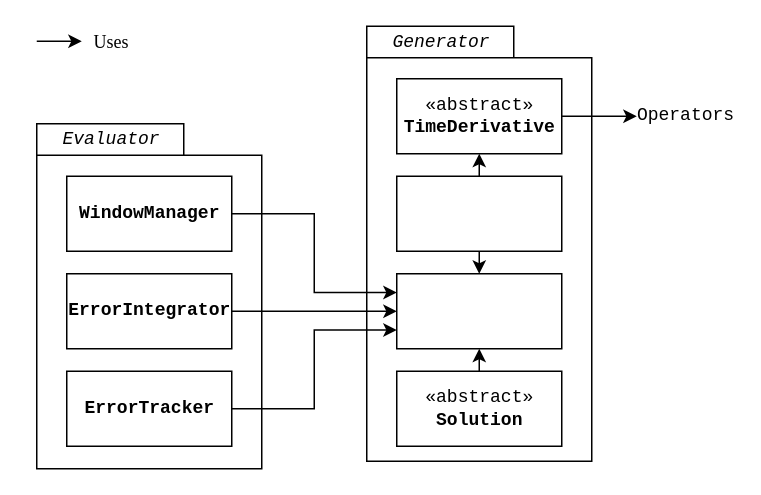
This 761x495 diagram has some shape labels left out. Each missing label, with the centre of its shape:
"State" goes at (x=478, y=310).
"«abstract» Integrator" goes at (x=478, y=213).
